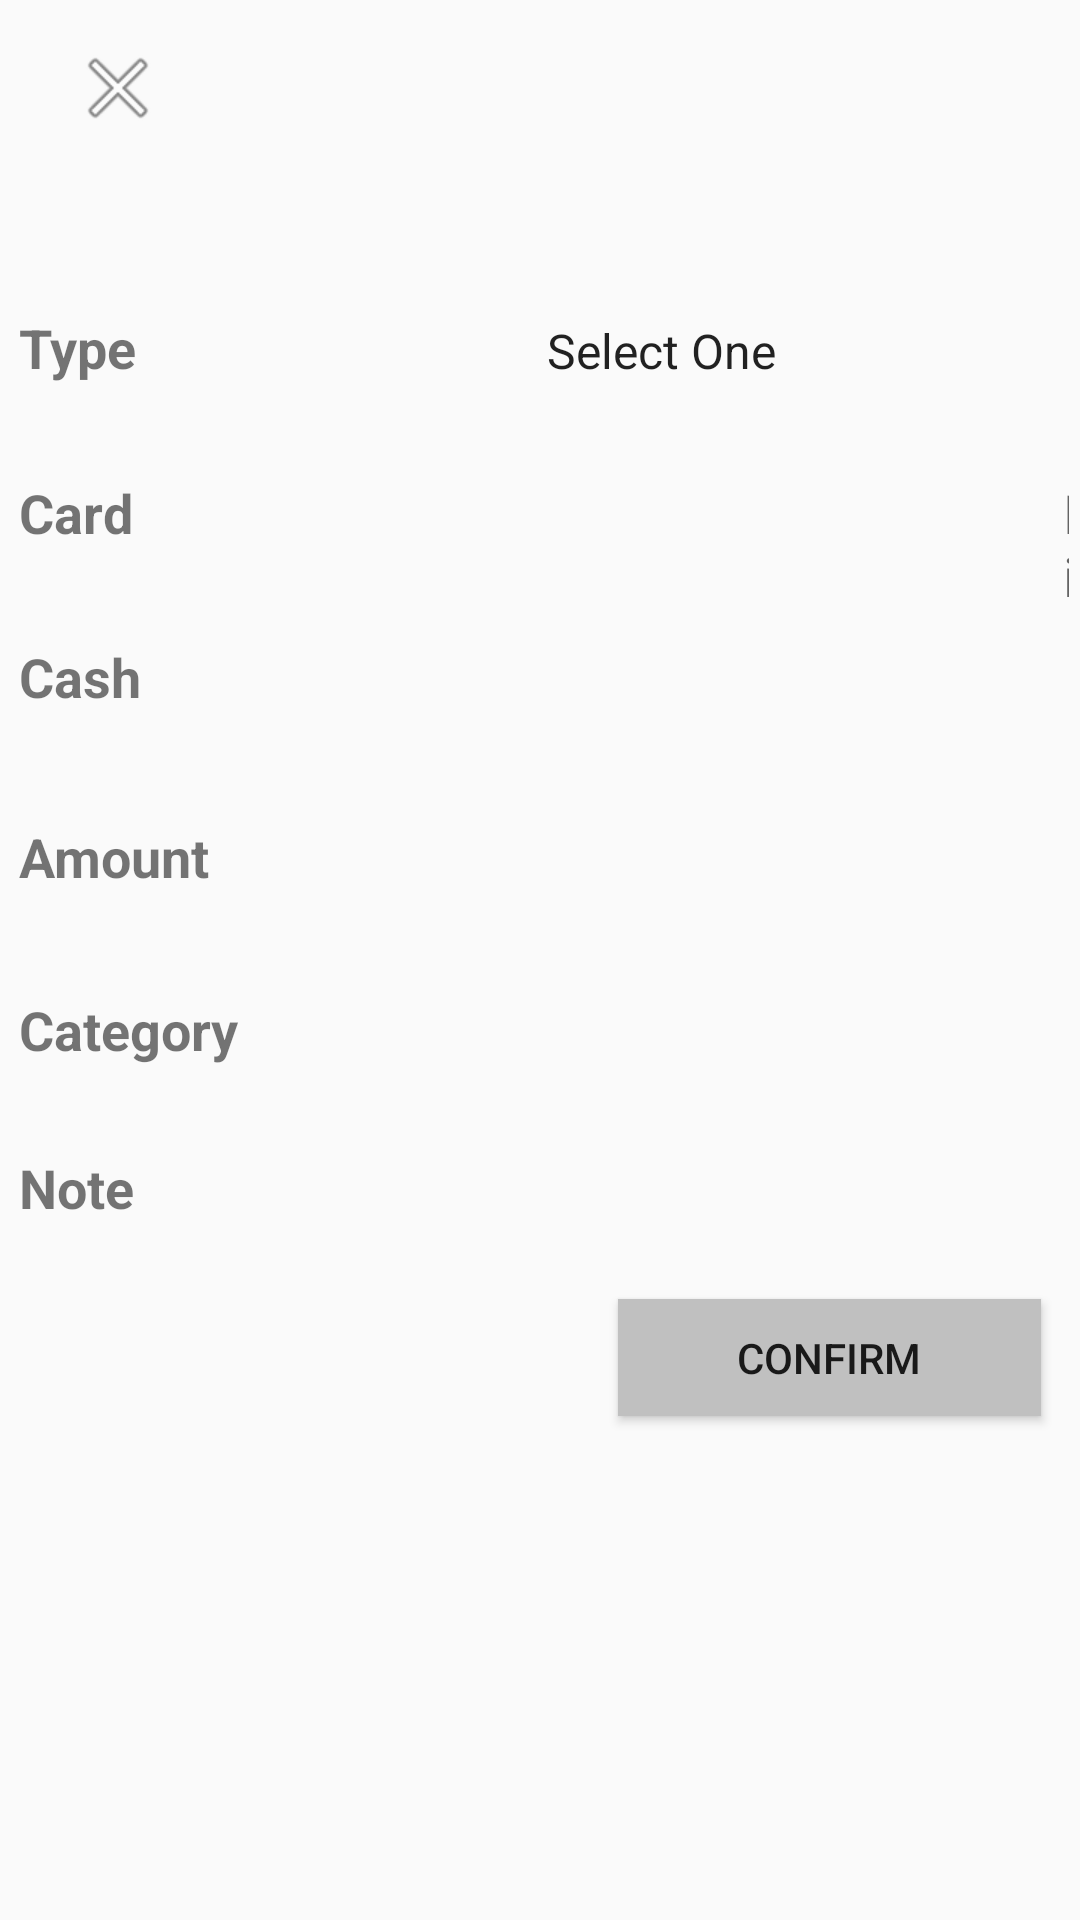

Locate icon controls on the screen. Image size 1080 × 1920, boxes as (x1, y1, x2, y2).
close clear cancel: (88, 58, 148, 118)
